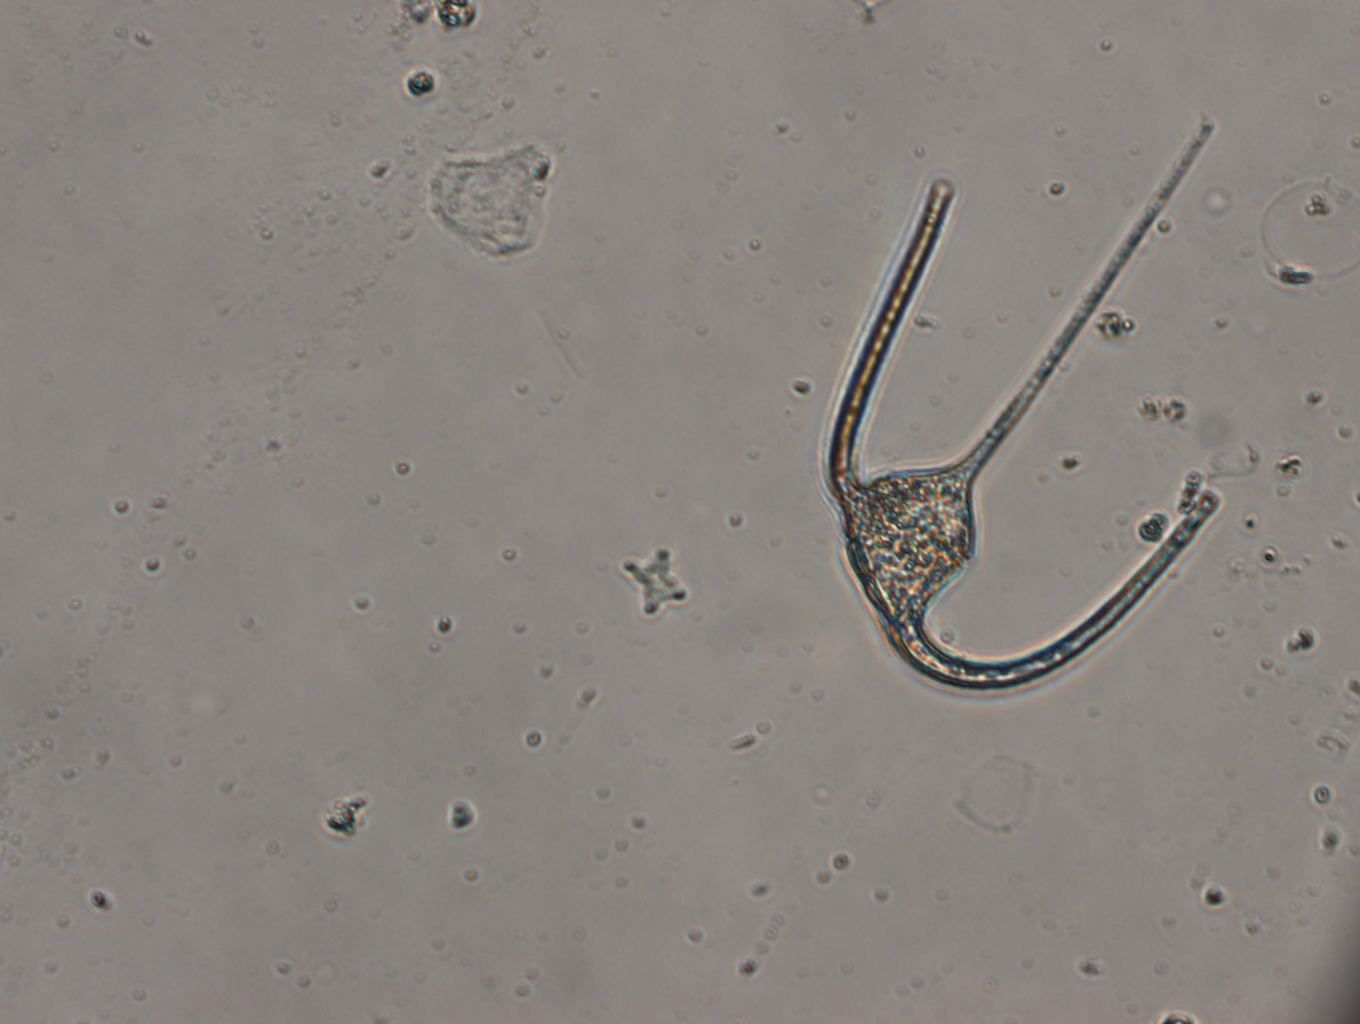ceratium trichoceros: (822, 120, 1222, 696)
